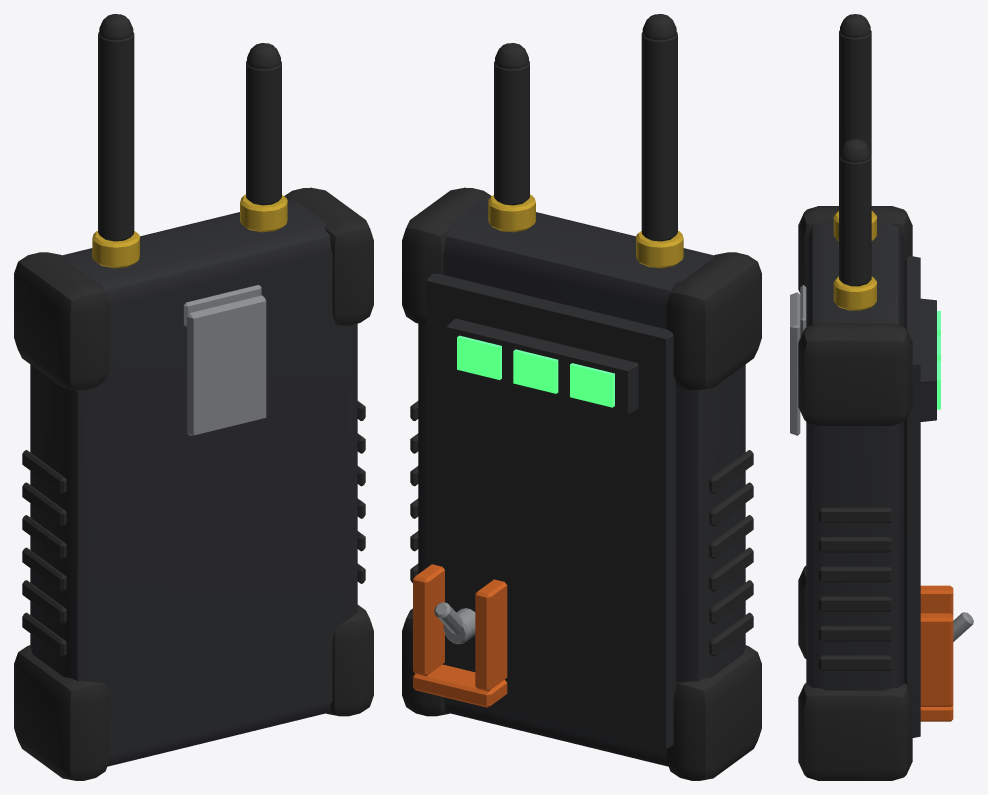
Rendered from eqp_pocket_ecm.glb.
The picture shows the model from 3 angles, left to right: view 1: azimuth 30°, elevation 25°; view 2: azimuth 150°, elevation 25°; view 3: azimuth 270°, elevation 25°; orthographic projection. The views are drawn at different scales.
Parts seen in each view (by area): view 1: Body; view 2: Body, Led; view 3: Body, Led.
Part boxes in pixels (bbox=[...]): Body: bbox=[14, 14, 373, 780]; Body: bbox=[402, 14, 761, 780]; Led: bbox=[457, 335, 614, 407]; Body: bbox=[790, 14, 973, 780]; Led: bbox=[937, 311, 940, 409].
Size of the model in its own units: 0.081 by 0.1812 by 0.045.
